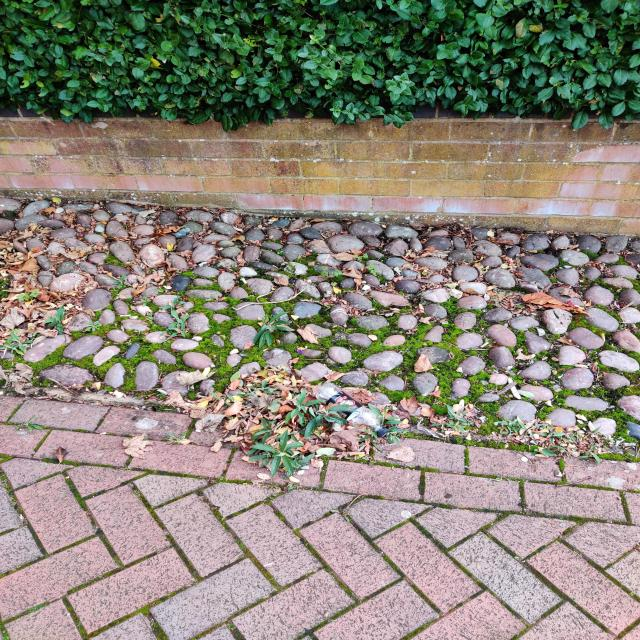litter: (312, 381, 390, 438)
